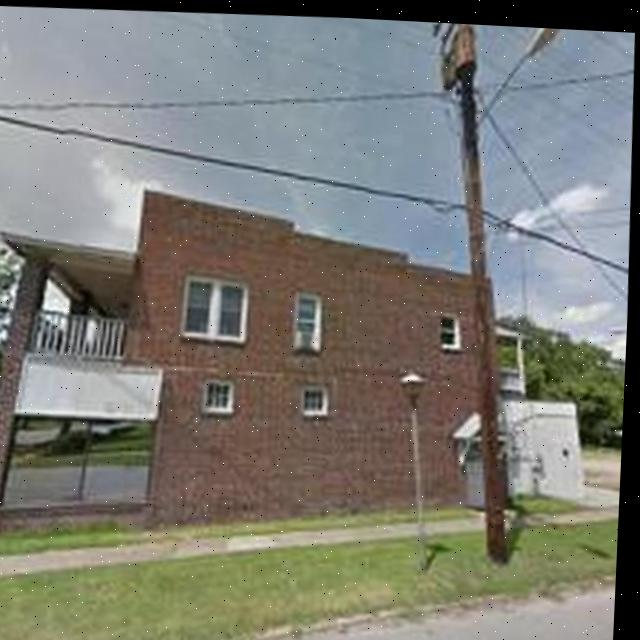building: (0, 172, 550, 552)
